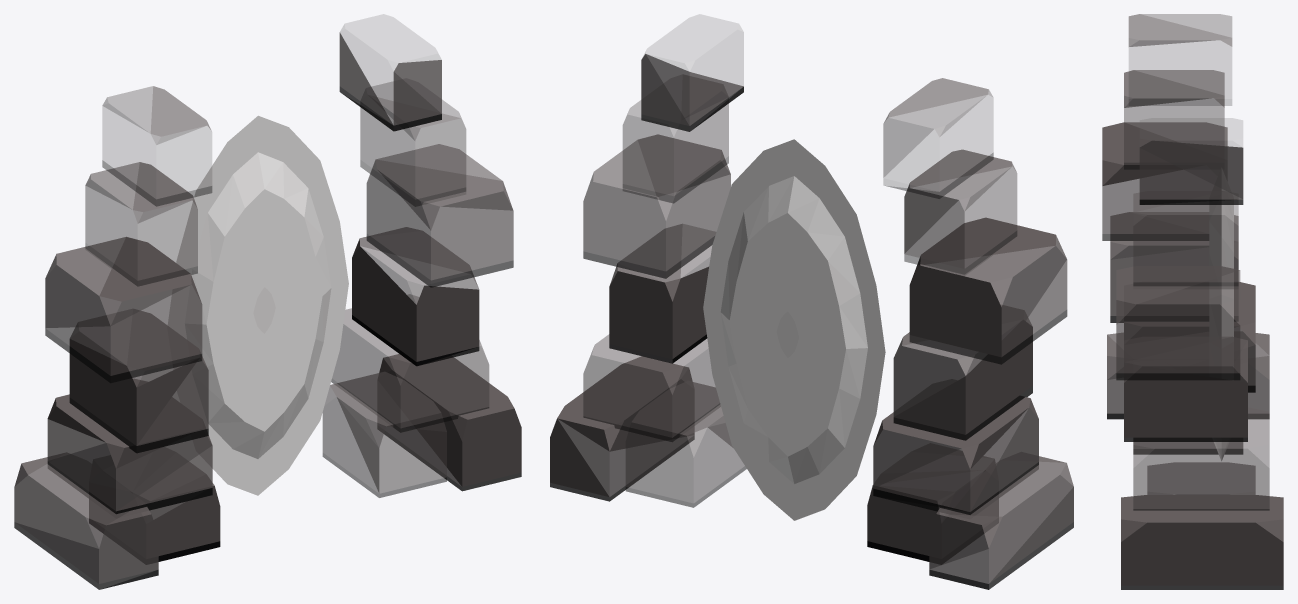
Rendered from clan-wars.gltf.
The picture shows the model from 3 angles, left to right: view 1: azimuth 30°, elevation 25°; view 2: azimuth 150°, elevation 25°; view 3: azimuth 270°, elevation 25°; orthographic projection. The views are drawn at different scales.
Size of the model in its own units: 308 by 301 by 117.
Materials: 2 (2 with a texture image).
